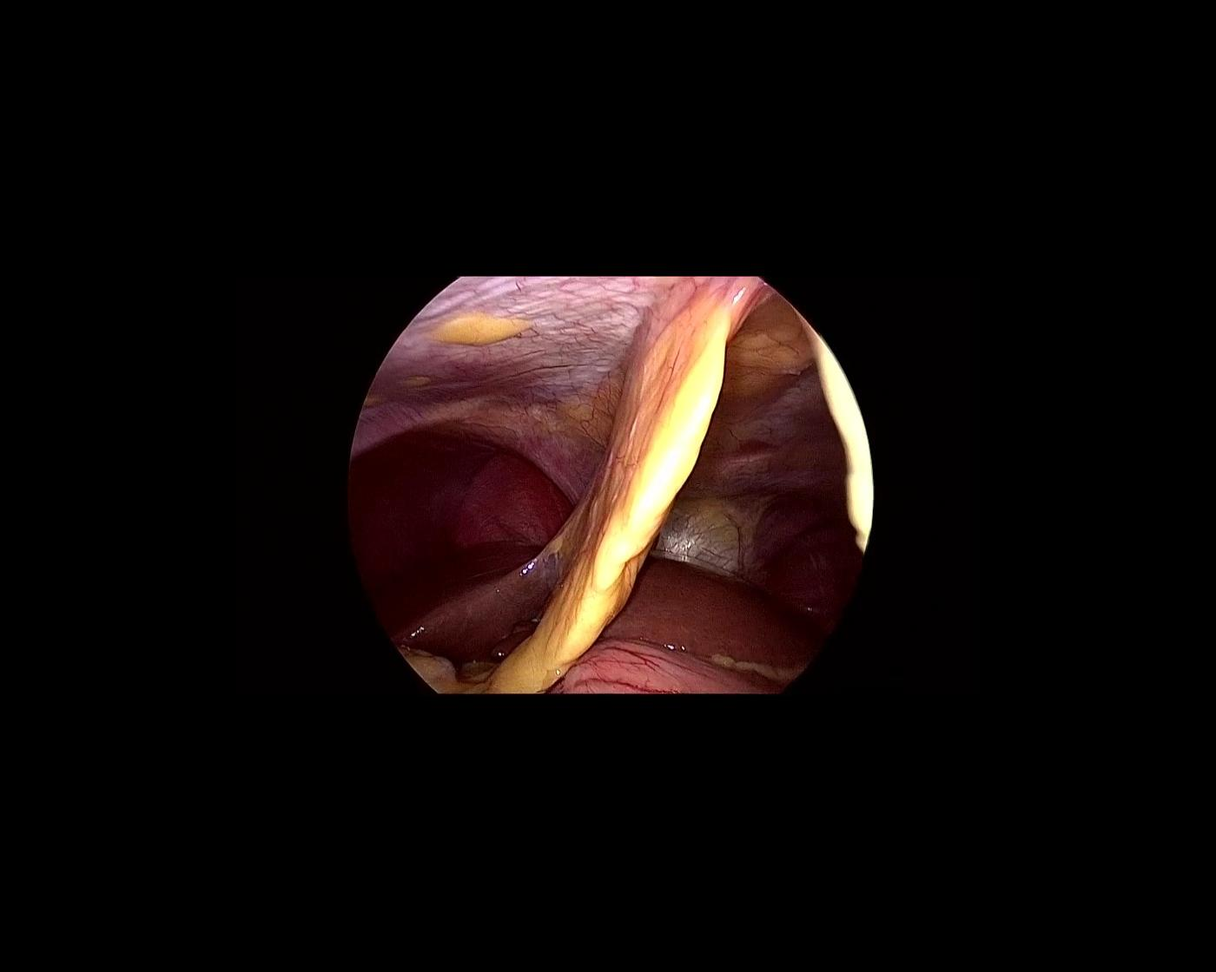Liver: (599, 549, 829, 703), (363, 527, 574, 687)
